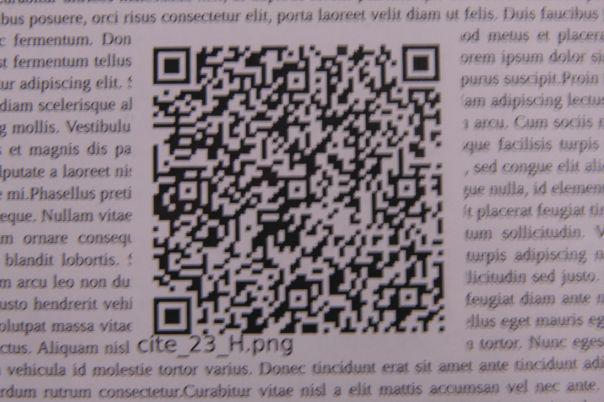Finder pattern: (148, 293, 197, 340), (150, 41, 196, 88), (400, 40, 444, 83)
